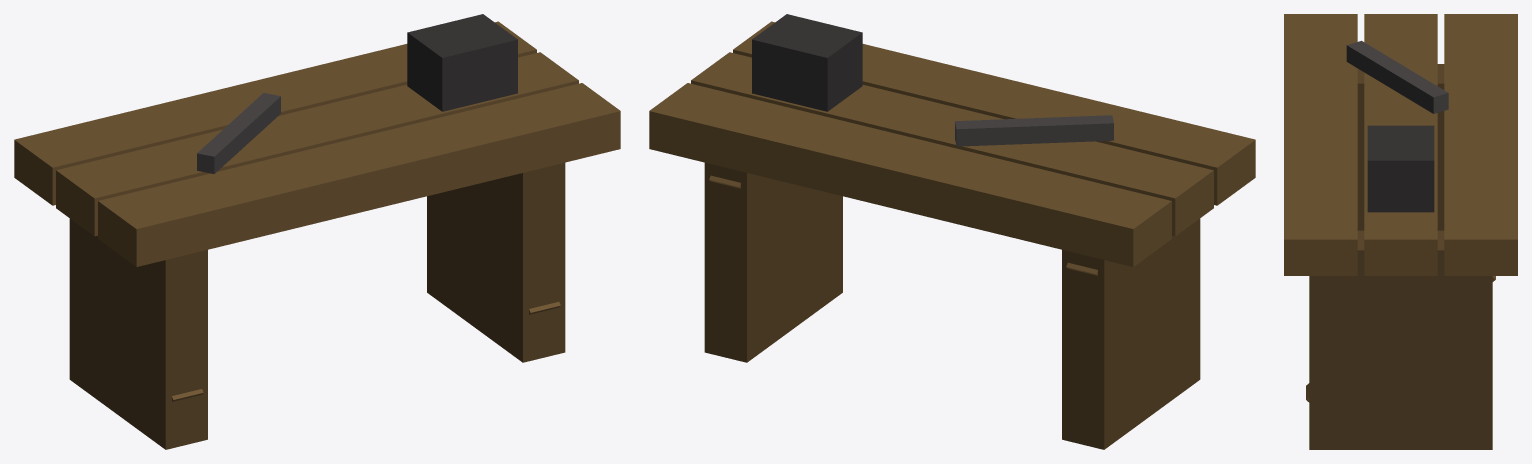
Rendered from workbench.glb.
3 renders of one model, left to right at view 1: azimuth 30°, elevation 25°; view 2: azimuth 150°, elevation 25°; view 3: azimuth 270°, elevation 25°, orthographic. The views are drawn at different scales.
Parts seen in each view (by area): view 1: workbench; view 2: workbench; view 3: workbench.
Part boxes in pixels (box(x1,y1,x2,y2)): workbench: box(14, 14, 620, 449); workbench: box(649, 14, 1255, 449); workbench: box(1284, 14, 1517, 449).
Size of the model in its own units: 1.6 by 0.93 by 0.7.
